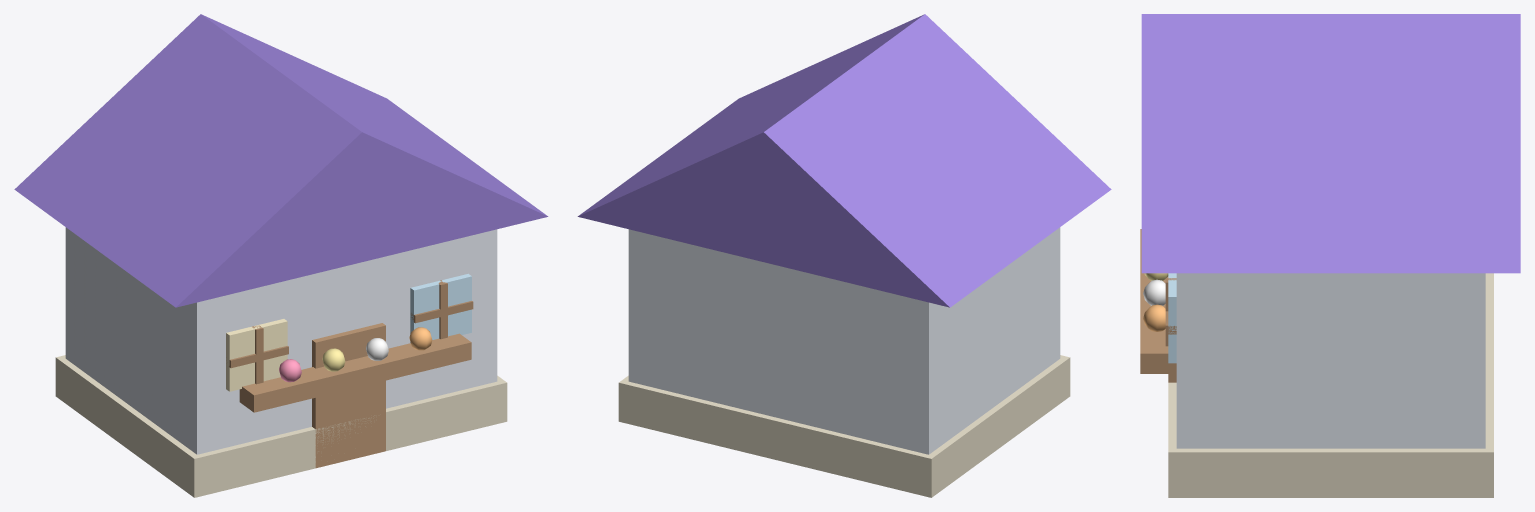
File: rumahw4.glb
3 views of the same model, side by side, from view 1: azimuth 30°, elevation 25°; view 2: azimuth 150°, elevation 25°; view 3: azimuth 270°, elevation 25° (orthographic). The views are drawn at different scales.
Parts seen in each view (by area): view 1: rumahw4; view 2: rumahw4; view 3: rumahw4.
Part boxes in pixels (x1,y1,x2,y2): rumahw4: [14, 14, 548, 497]; rumahw4: [577, 14, 1111, 497]; rumahw4: [1140, 14, 1520, 497].
Size of the model in its own units: 1.8 by 1.55 by 1.36.
